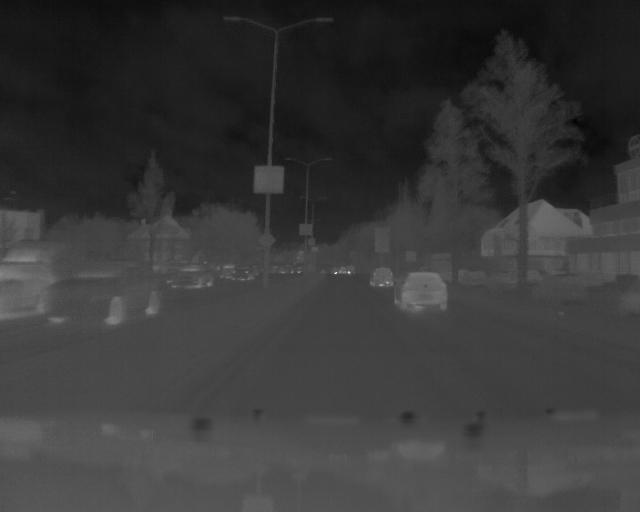car: (44, 258, 162, 328), (395, 270, 449, 315), (171, 264, 217, 291), (370, 266, 393, 290)
